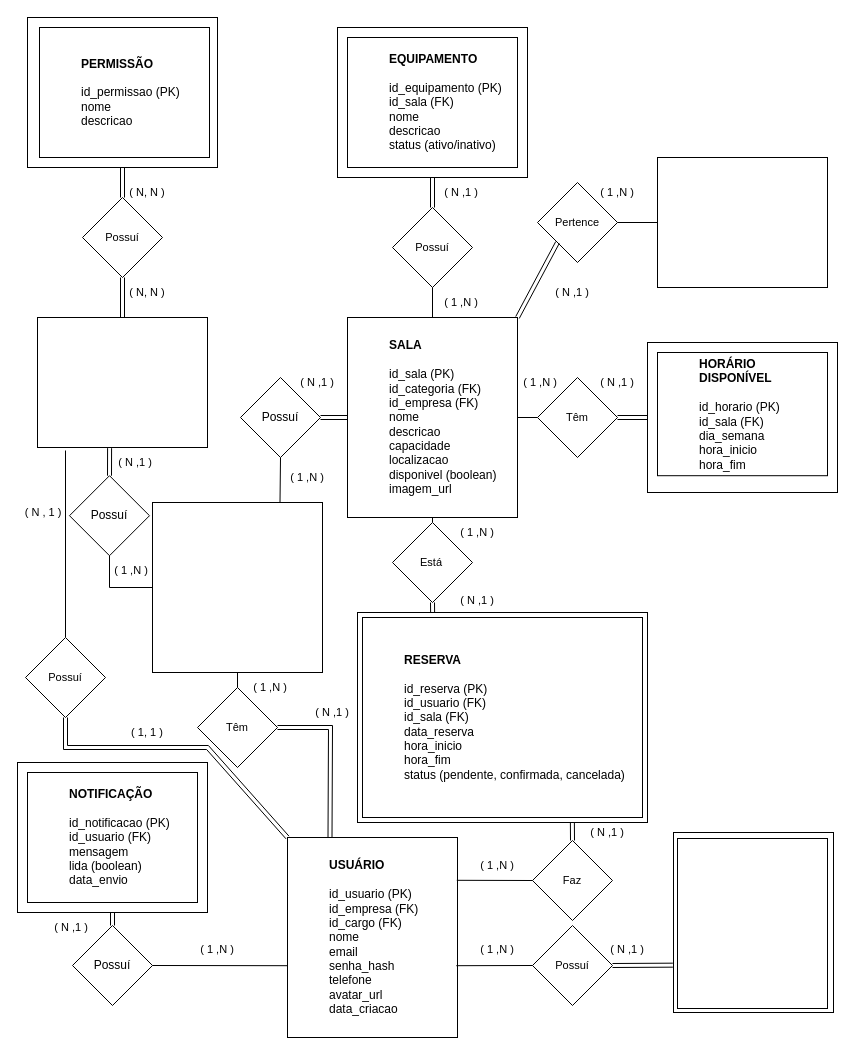
This 855x1055 diagram has some shape labels left out. Here are the shapes that lost their labels. From the top down, the centre of each, then its label:
the point at 742,222: CATEGORIA SALA id_categoria (PK) nome descricao
the point at 122,382: CARGO id_cargo (PK) id_usuario (FK) id_empresa (FK) id_permissão (FK)
the point at 237,587: EMPRESA id_empresa (PK) nome cnpj email telefone endereco logo_url data_criacao
the point at 752,923: LOG DE ATIVIDADES id_log (PK) id_usuario (FK) acao data_hora detalhes
